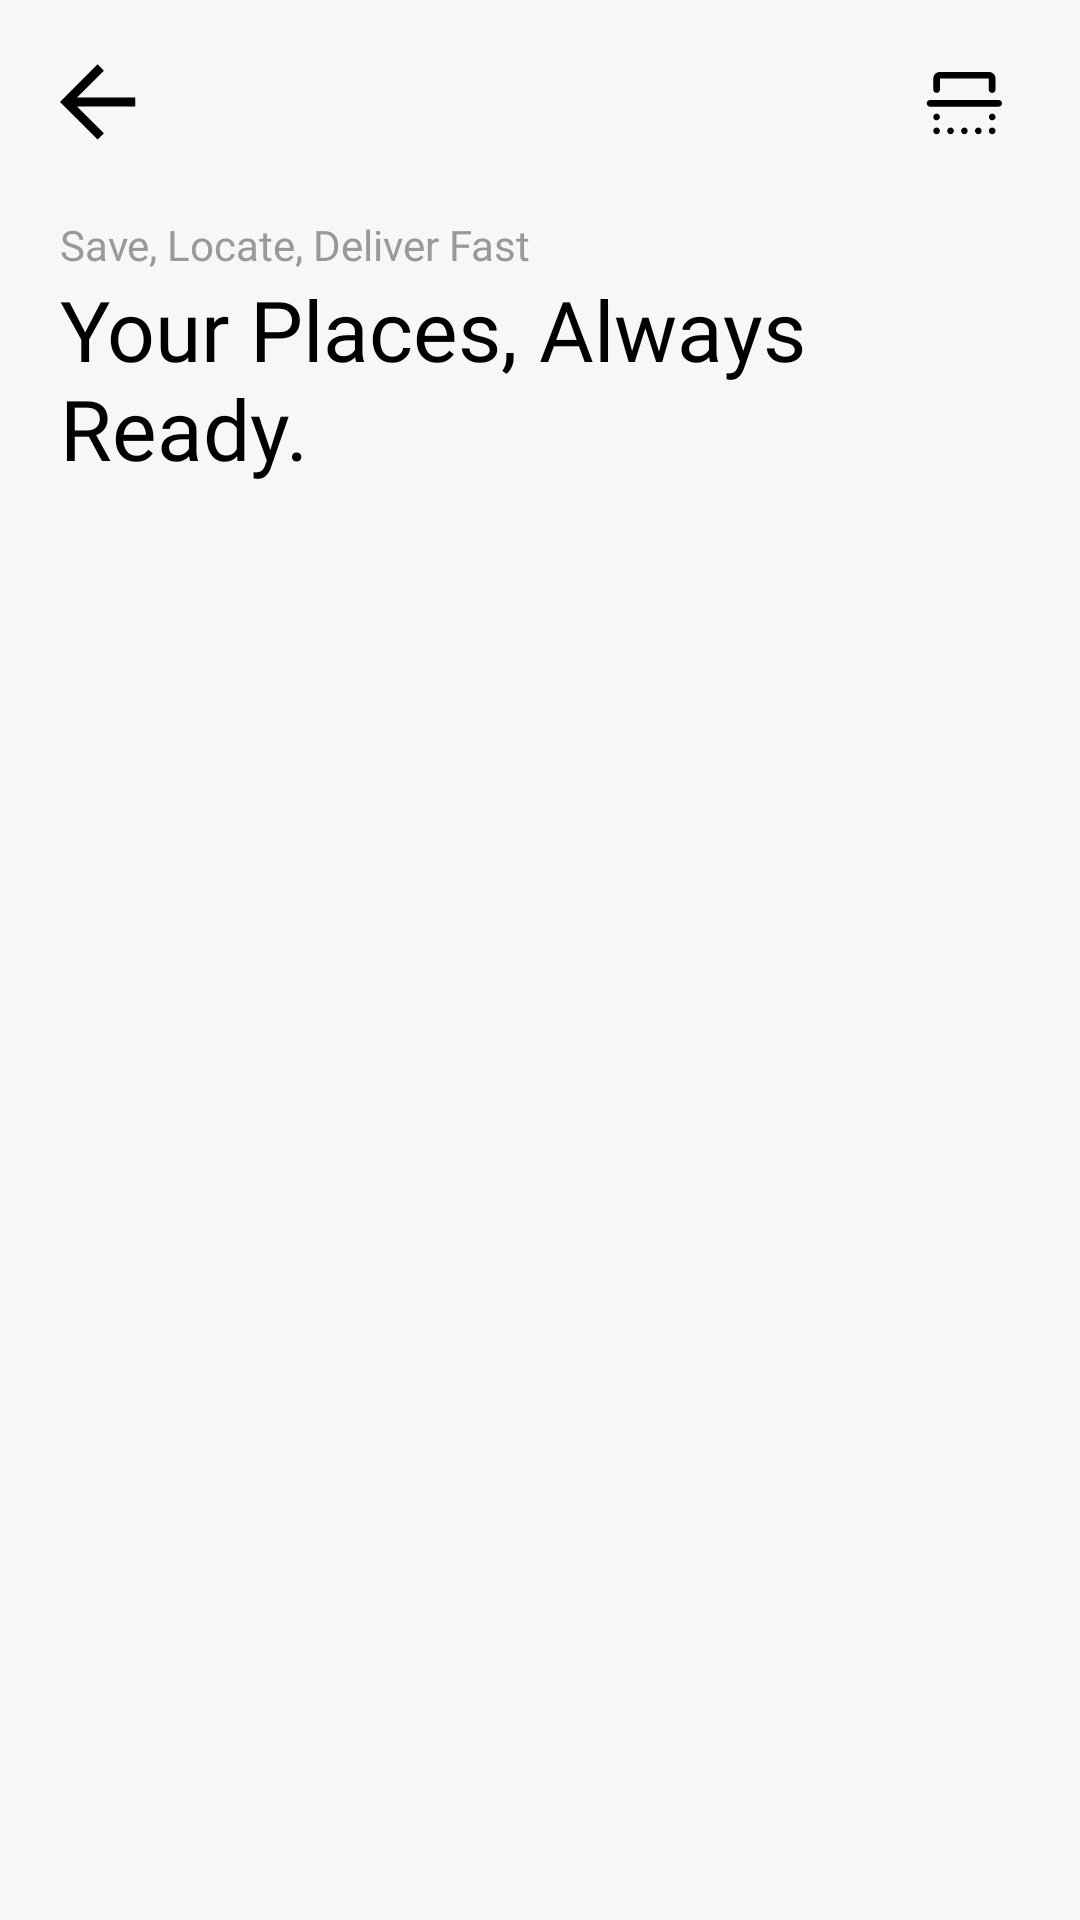

Where icons sit on this 1080px x 1920px app screen, as [x1, y1, x2, y2]:
arrow back: [60, 64, 136, 140]
flip: [926, 72, 1002, 135]
